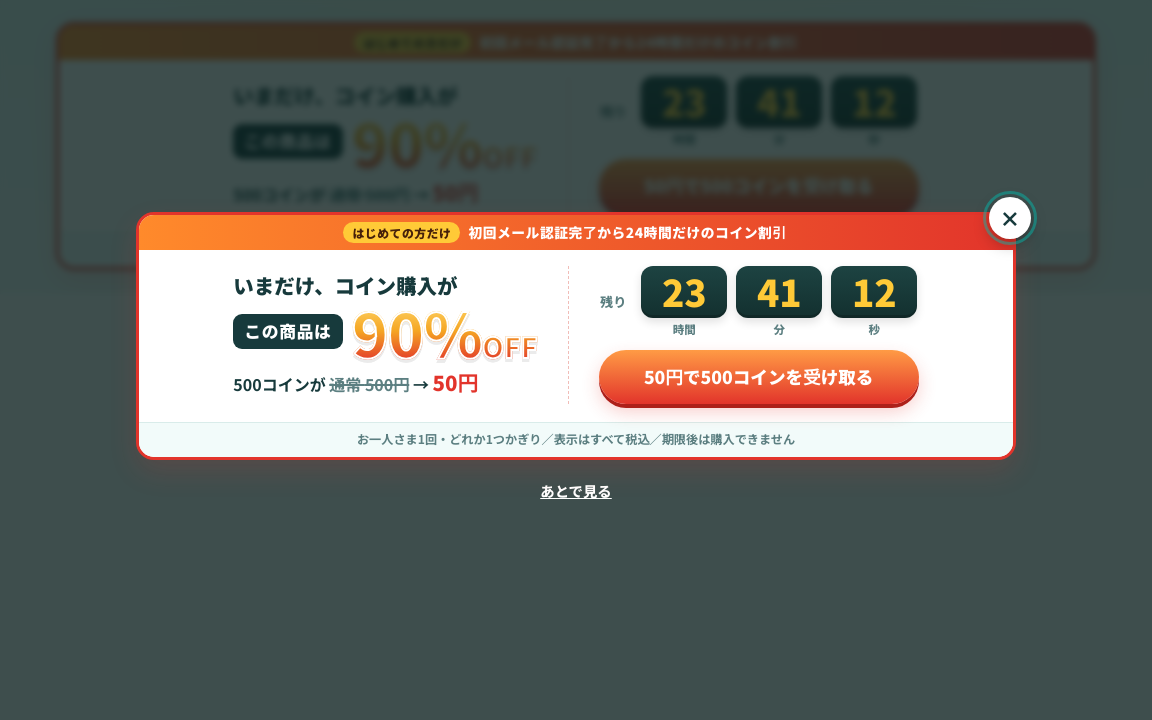
Scenario: isolated first-buy layout › dismisses the explicit popup with cta
Click the link "50円で500コインを受け取る" at (759, 377), box [599,350,919,404]
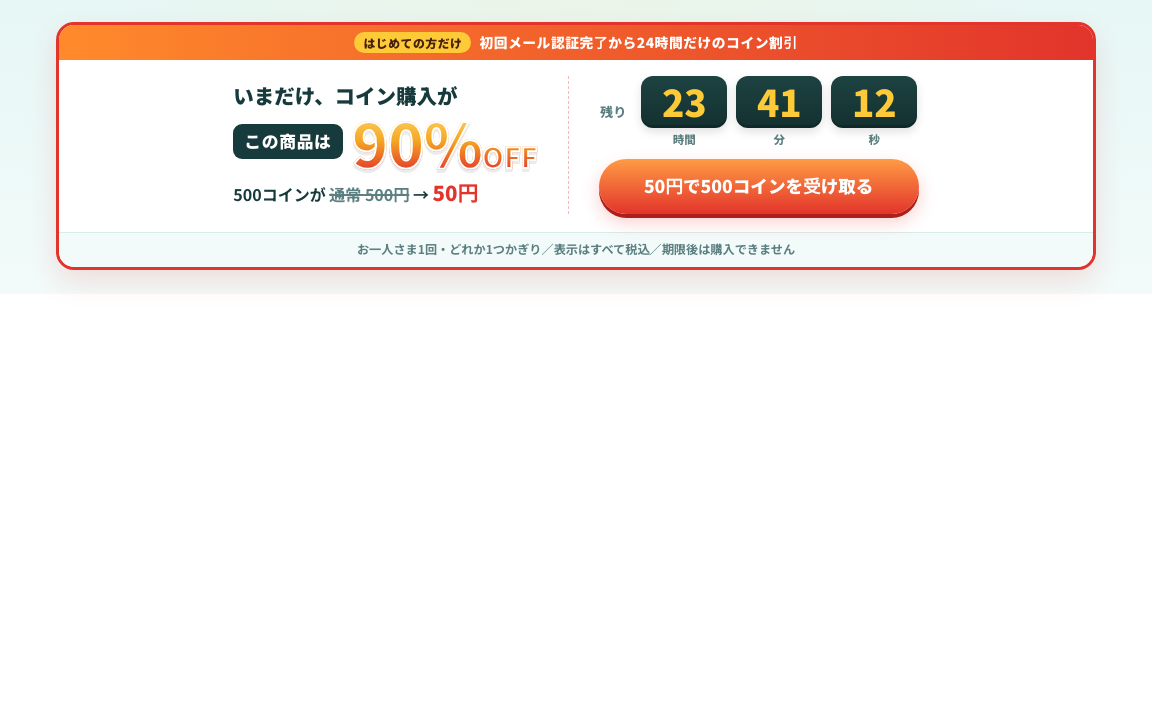
expect the dialog is gone: met
